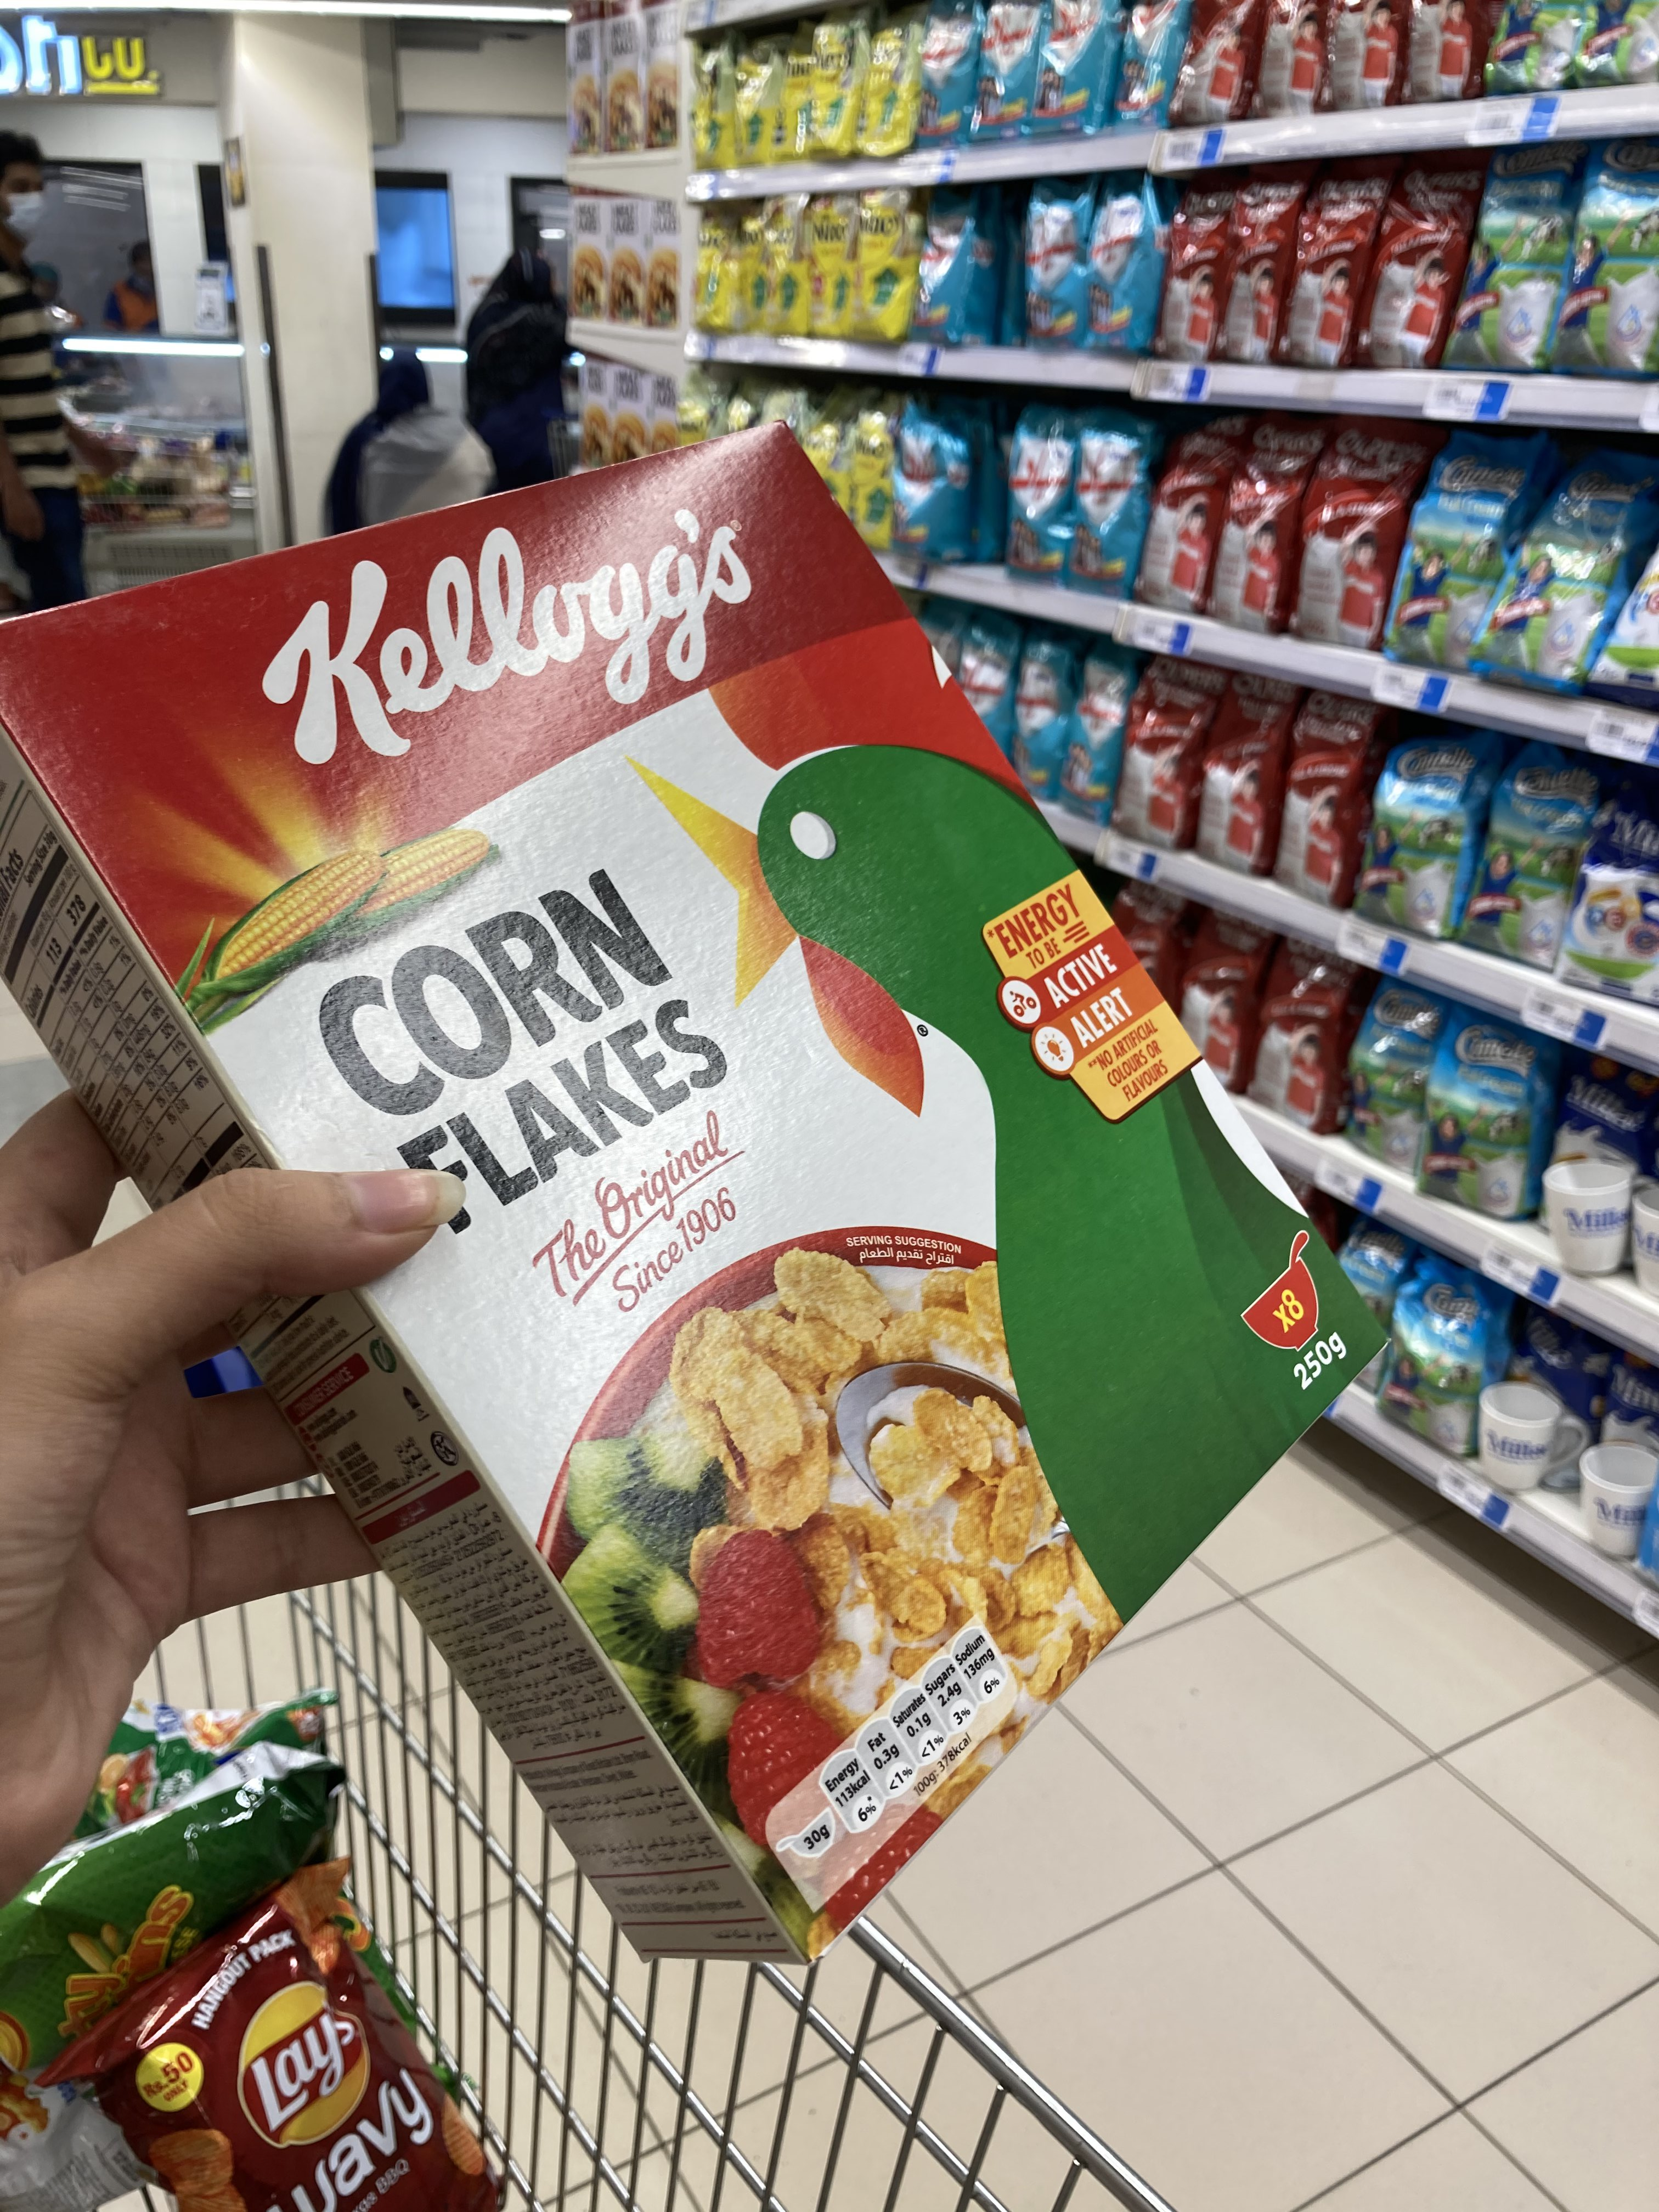Kellogg's Corn Flakes: (14, 423, 1398, 1966)
